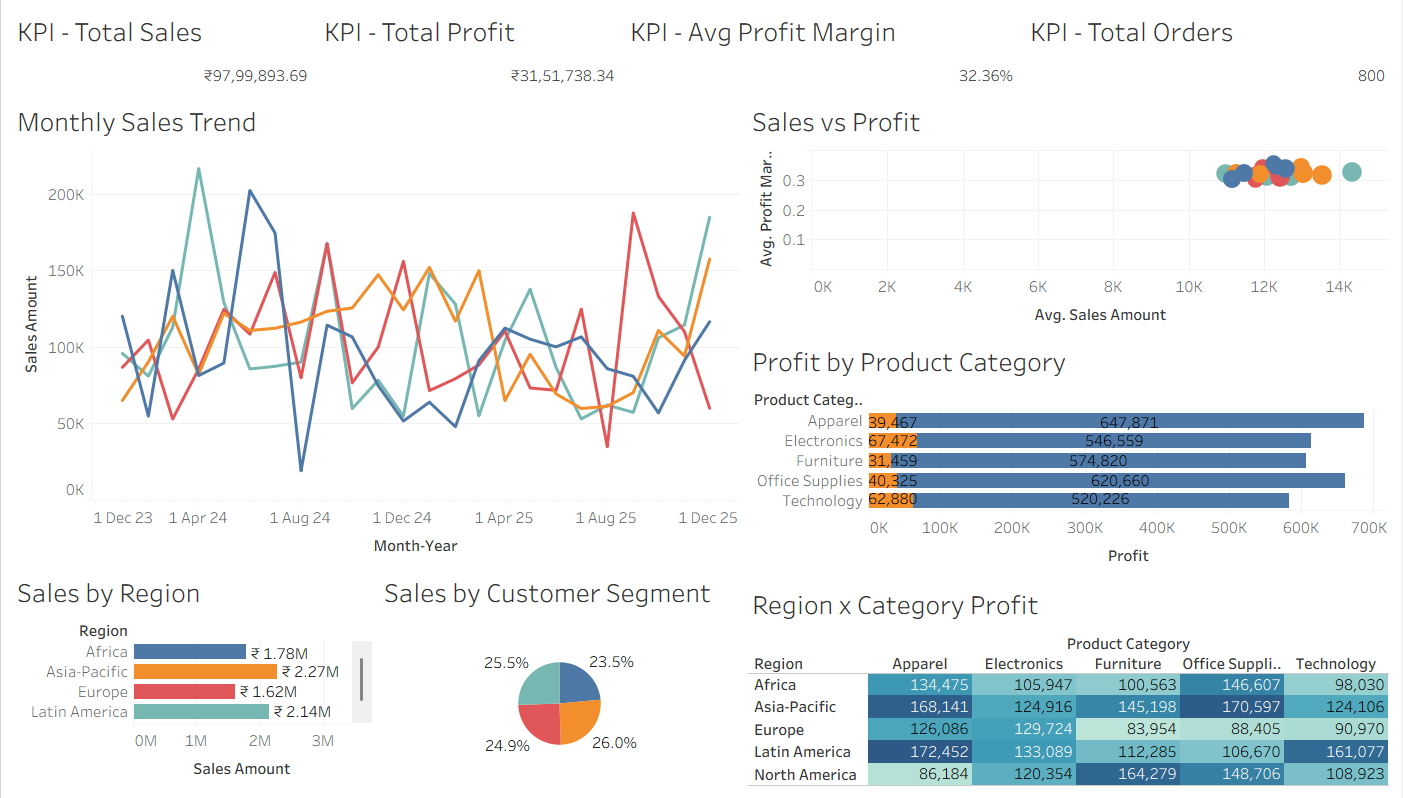

Layout of this report page (visuals, bound fields, positions):
{"tool":"tableau","page":{"name":"Dashboard","canvas":[1400,800],"ordinal":0},"visuals":[{"type":"worksheet","title":"KPI - Total Sales","mark":"Automatic","box":[8,8,306.6,90]},{"type":"worksheet","title":"KPI - Total Profit","mark":"Automatic","box":[314.6,8,306.6,90]},{"type":"worksheet","title":"KPI - Avg Profit Margin","mark":"Automatic","box":[621.2,8,399.5,90]},{"type":"worksheet","title":"KPI - Total Orders","mark":"Automatic","box":[1020.7,8,371.3,90]},{"type":"worksheet","title":"Monthly Sales Trend","mark":"Line","rows":["Sales Amount"],"cols":["Month-Year"],"box":[8,98,735,471]},{"type":"worksheet","title":"Sales vs Profit","mark":"Circle","rows":["Profit Margin %"],"cols":["Sales Amount"],"box":[743,98,649,240]},{"type":"worksheet","title":"Profit by Product Category","mark":"Bar","rows":["Product Category"],"cols":["Profit"],"box":[743,338,649,243]},{"type":"worksheet","title":"Sales by Region","mark":"Bar","rows":["Region"],"cols":["Sales Amount"],"box":[8,569,367.5,223]},{"type":"worksheet","title":"Sales by Customer Segment","mark":"Pie","box":[375.5,569,367.5,223]},{"type":"worksheet","title":"Region x Category Profit","mark":"Square","rows":["Region"],"cols":["Product Category"],"box":[743,581,649,211]}]}

Visuals, with their boxes in screenshot pixels (x1, y1, x2, y2), scaled from the page's 1400x800 canvas onto the 1403x798 screenshot:
"KPI - Total Sales" worksheet: 8, 8, 315, 98
"KPI - Total Profit" worksheet: 315, 8, 623, 98
"KPI - Avg Profit Margin" worksheet: 623, 8, 1023, 98
"KPI - Total Orders" worksheet: 1023, 8, 1395, 98
"Monthly Sales Trend" worksheet (Line marks): 8, 98, 745, 568
"Sales vs Profit" worksheet (Circle marks): 745, 98, 1395, 337
"Profit by Product Category" worksheet (Bar marks): 745, 337, 1395, 580
"Sales by Region" worksheet (Bar marks): 8, 568, 376, 790
"Sales by Customer Segment" worksheet (Pie marks): 376, 568, 745, 790
"Region x Category Profit" worksheet (Square marks): 745, 580, 1395, 790
